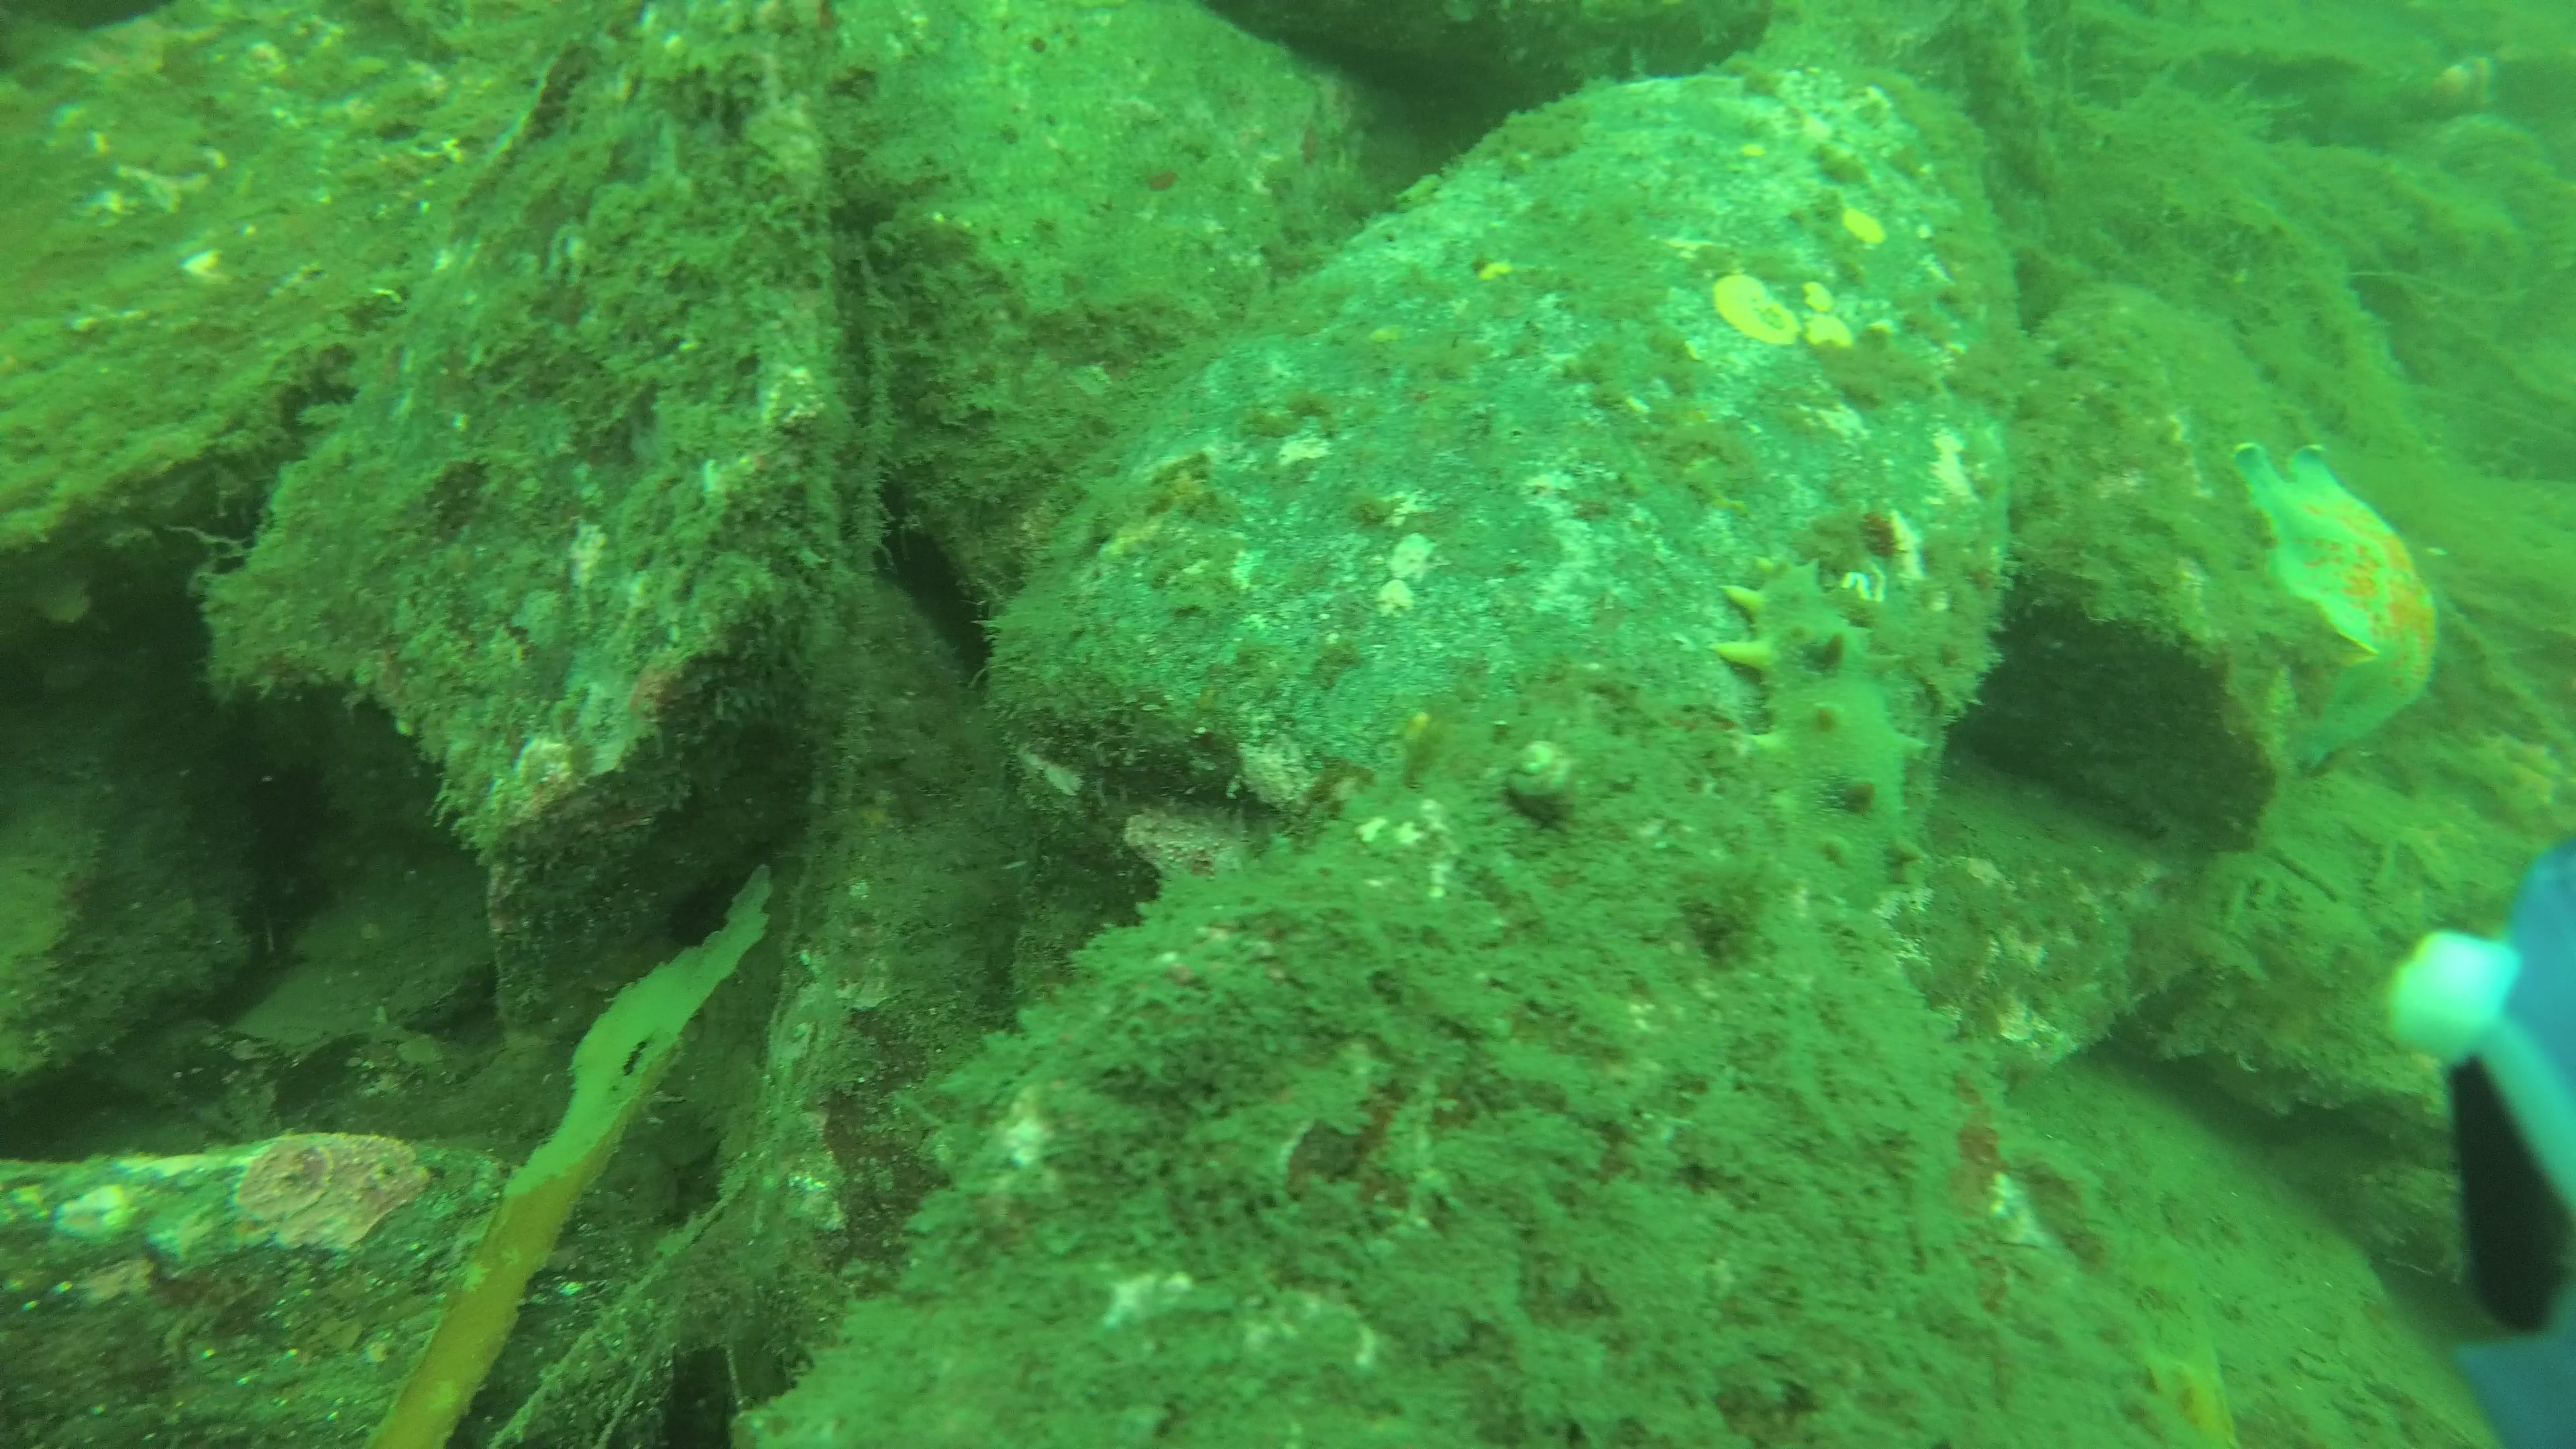holothurian: (1723, 545, 1927, 916)
starfish: (2236, 433, 2445, 775)
